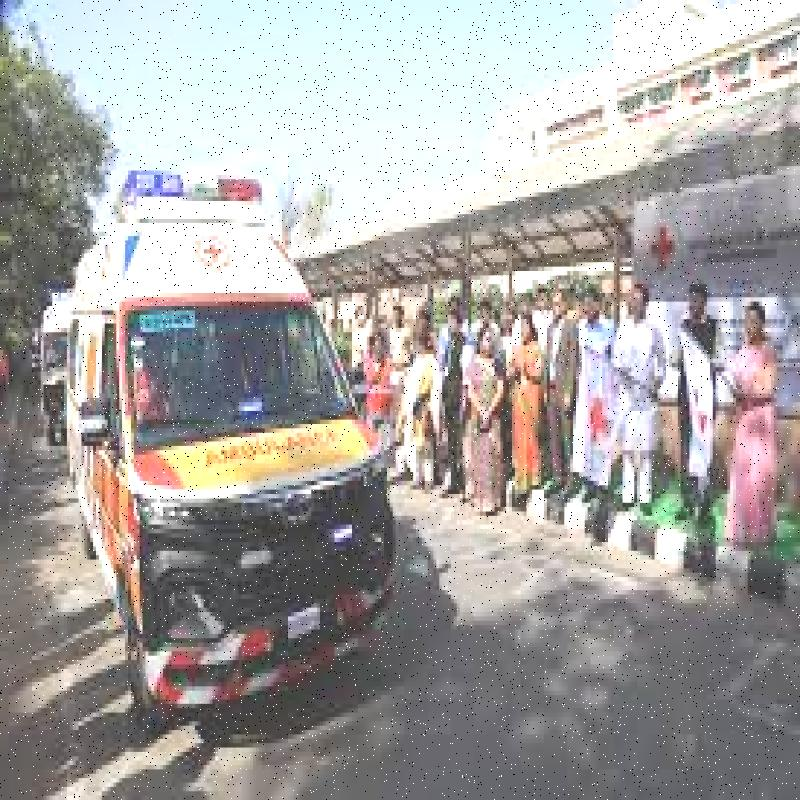AmbulanceSiren: (127, 161, 269, 222)
ambulance: (52, 160, 411, 731)
